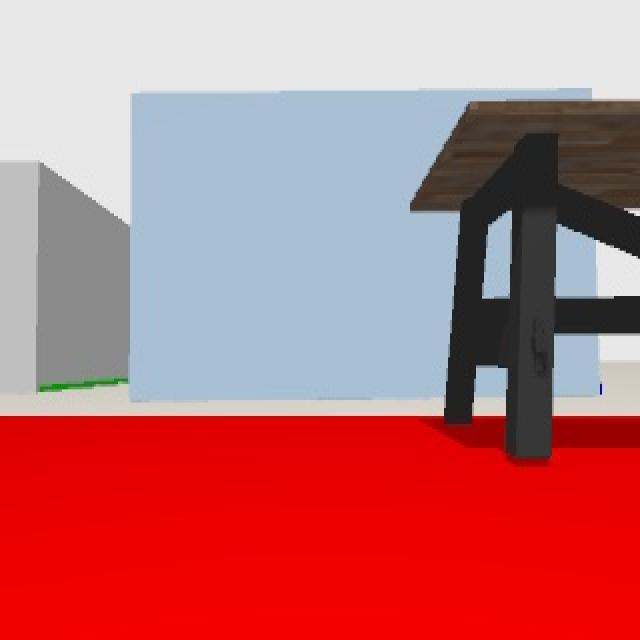dining: (412, 96, 640, 463)
